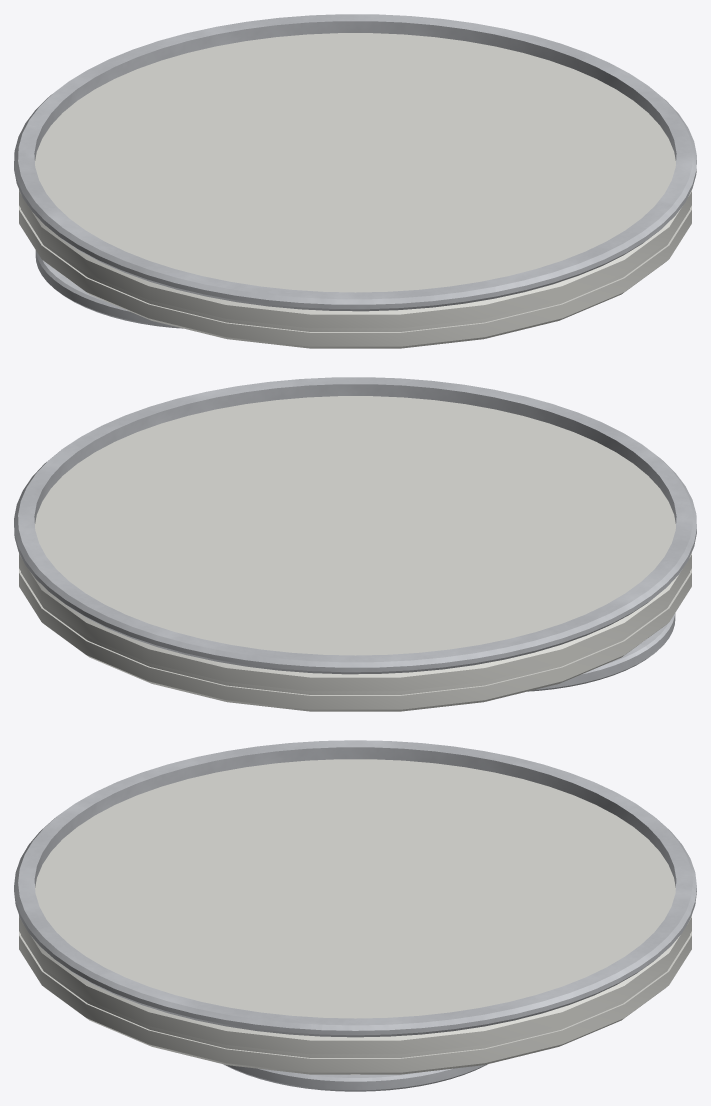
File: ax_struct_14_multi_mount_xl_x2.glb
3 renders of one model, top to bottom at view 1: azimuth 30°, elevation 25°; view 2: azimuth 150°, elevation 25°; view 3: azimuth 270°, elevation 25°, orthographic.
Parts seen in each view (by area): view 1: mount_plate, top_ring, mount_rings; view 2: mount_plate, top_ring, mount_rings; view 3: mount_plate, top_ring, mount_rings.
Boxes of the visible parts, x1,y1,x2,y2 form: mount_plate: (19,33,691,348); top_ring: (14,14,696,311); mount_rings: (35,250,182,328); mount_plate: (19,396,691,711); top_ring: (14,377,696,674); mount_rings: (528,613,675,691); mount_plate: (19,759,691,1074); top_ring: (14,740,696,1037); mount_rings: (223,1064,487,1091).
Size of the model in its own units: 5.02 by 0.526 by 5.
Materials: 2 (1 with a texture image).
